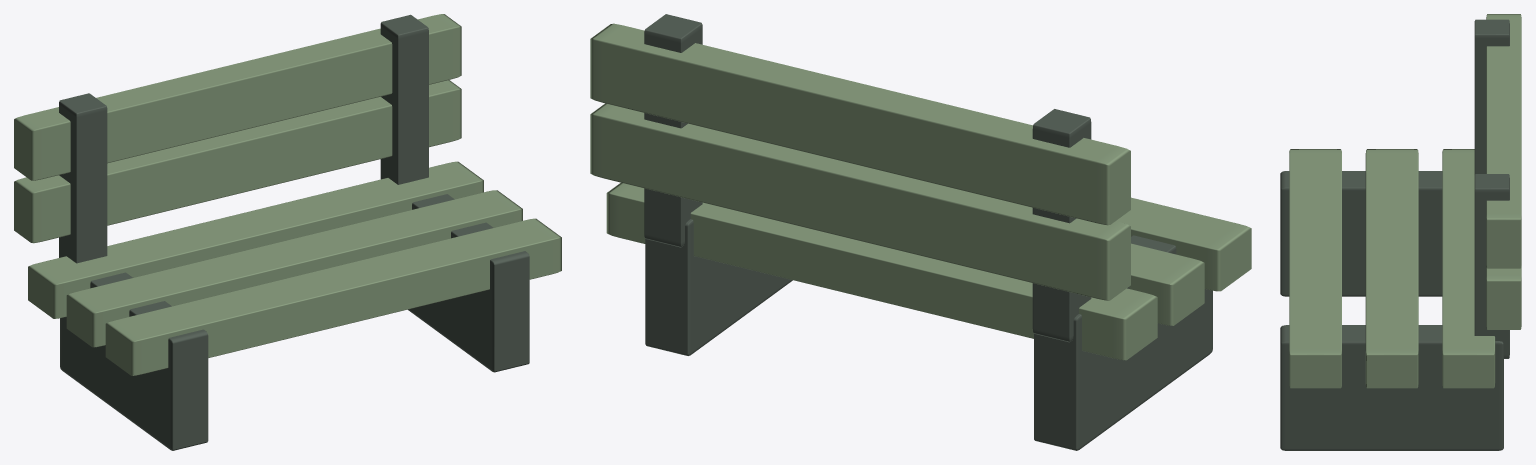
File: bench-1.glb
3 views of the same model, side by side, from view 1: azimuth 30°, elevation 25°; view 2: azimuth 150°, elevation 25°; view 3: azimuth 270°, elevation 25° (orthographic). The views are drawn at different scales.
Parts seen in each view (by area): view 1: bench-1-0; view 2: bench-1-0; view 3: bench-1-0.
Boxes of the visible parts, x1=… form: bench-1-0: x1=14, y1=14, x2=561, y2=450; bench-1-0: x1=590, y1=14, x2=1251, y2=450; bench-1-0: x1=1280, y1=14, x2=1521, y2=450.
Size of the model in its own units: 0.83 by 0.4905 by 0.41.
